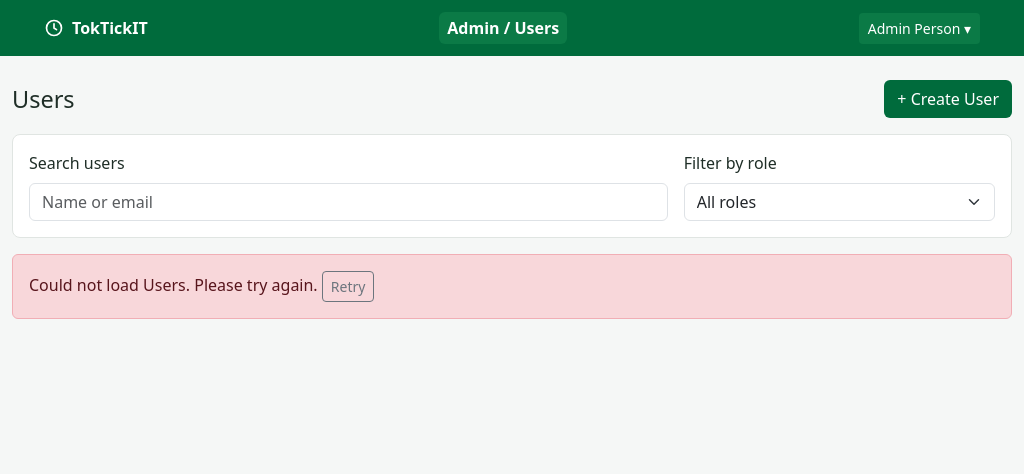
Test: Issue 7 User Management (UI-08, focused UI-09 accessibility) › shows safe network list failure with Retry
This screenshot has width=1024, height=474.
Check: the message reads "Could not load Users. Please try again. Retry", box x1=29 y1=274 x2=318 y2=296
Click the button "Retry": (348, 286) x1=322 y1=271 x2=374 y2=302
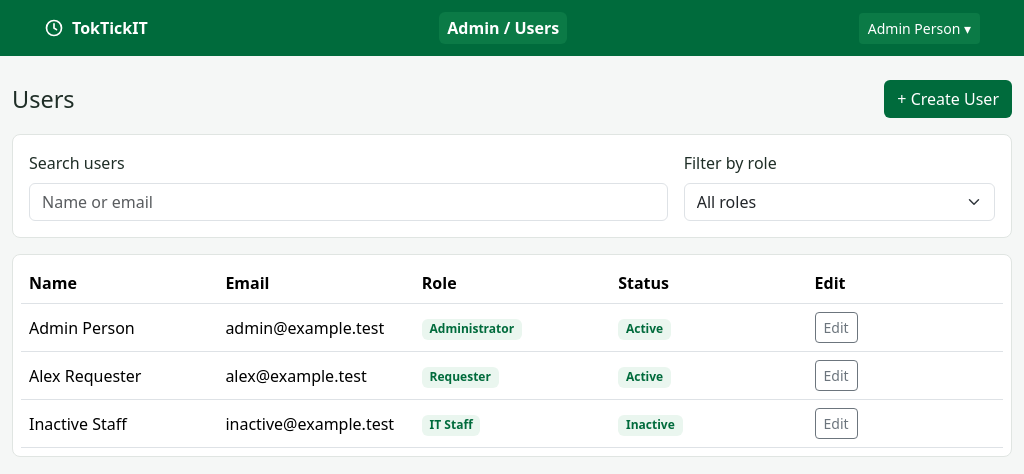
Check: the table named "Users" is shown, box x1=21 y1=263 x2=1003 y2=448
